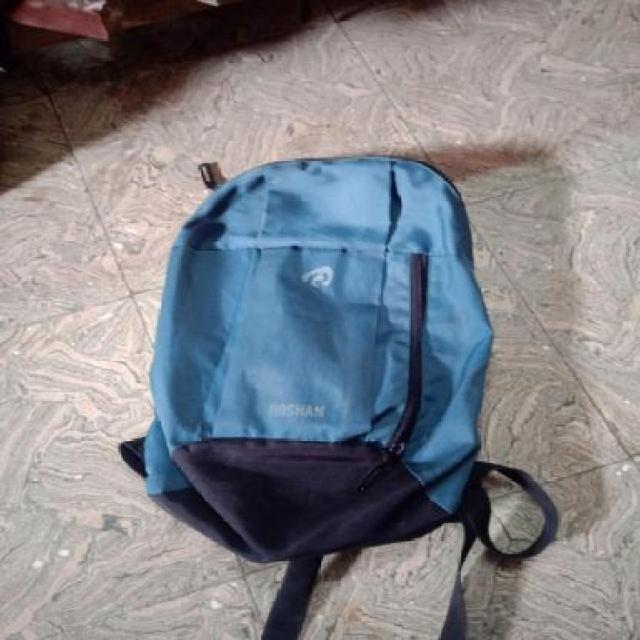backpack: (114, 151, 497, 569)
